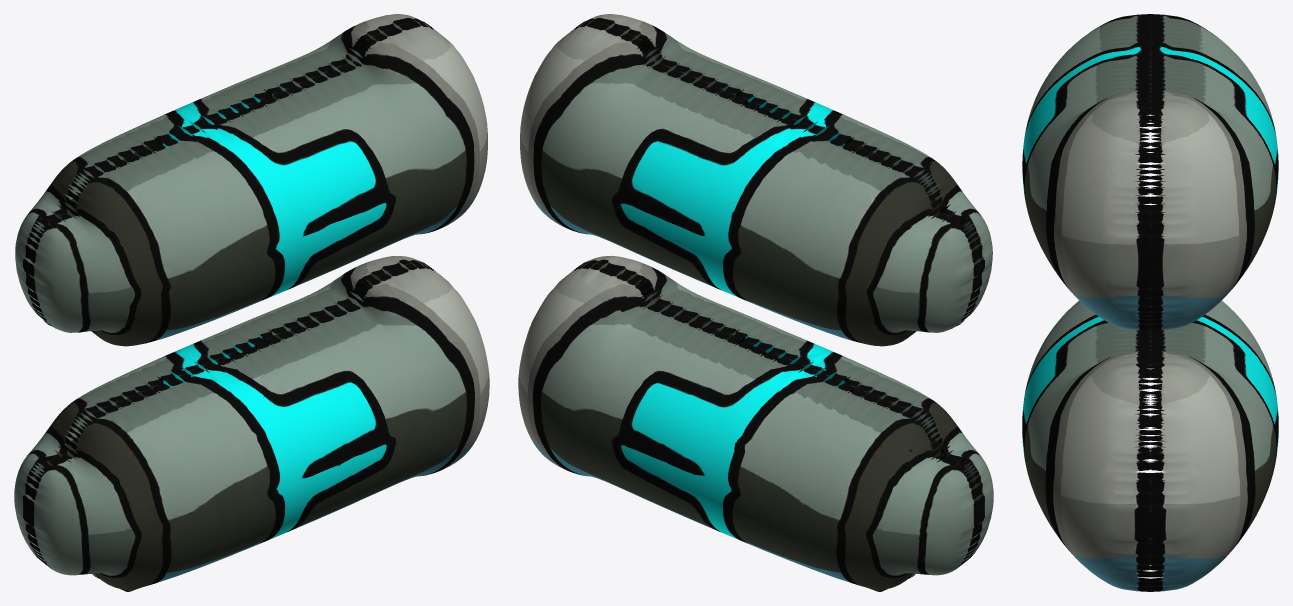
The model's file is rear_couplers.glb.
The picture shows the model from 3 angles, left to right: view 1: azimuth 30°, elevation 25°; view 2: azimuth 150°, elevation 25°; view 3: azimuth 270°, elevation 25°; orthographic projection. The views are drawn at different scales.
Visible parts, largest first — view 1: rear_couplers; view 2: rear_couplers; view 3: rear_couplers.
Part boxes in pixels (x1=…): rear_couplers: x1=14, y1=14, x2=489, y2=591; rear_couplers: x1=518, y1=14, x2=993, y2=591; rear_couplers: x1=1022, y1=14, x2=1278, y2=591.
Size of the model in its own units: 0.9885 by 1.03 by 0.4584.
1 material, 1 textured.
